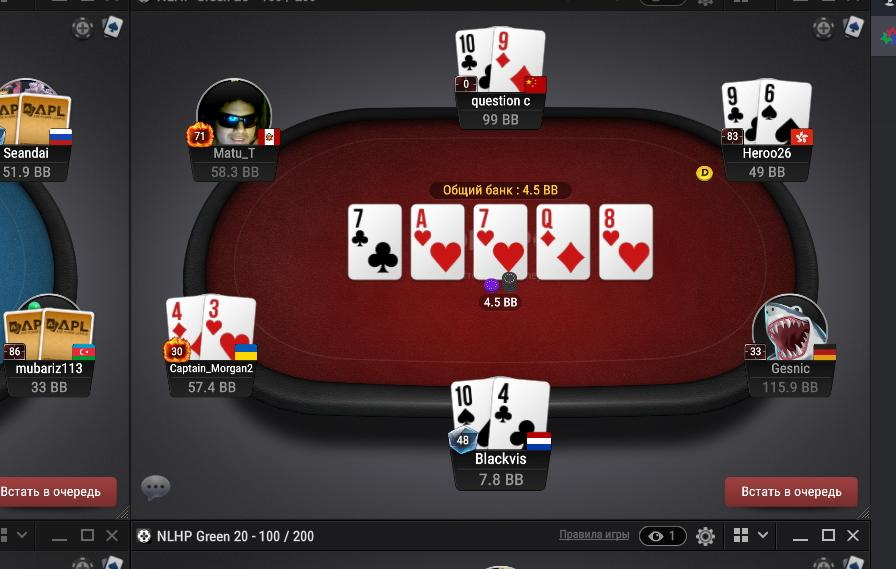10c: (454, 27, 493, 89)
10s: (450, 379, 491, 450)
3h: (204, 295, 256, 363)
4c: (490, 375, 549, 450)
4d: (164, 295, 205, 357)
6s: (759, 80, 810, 145)
9c: (722, 81, 762, 143)
9d: (493, 28, 545, 92)
